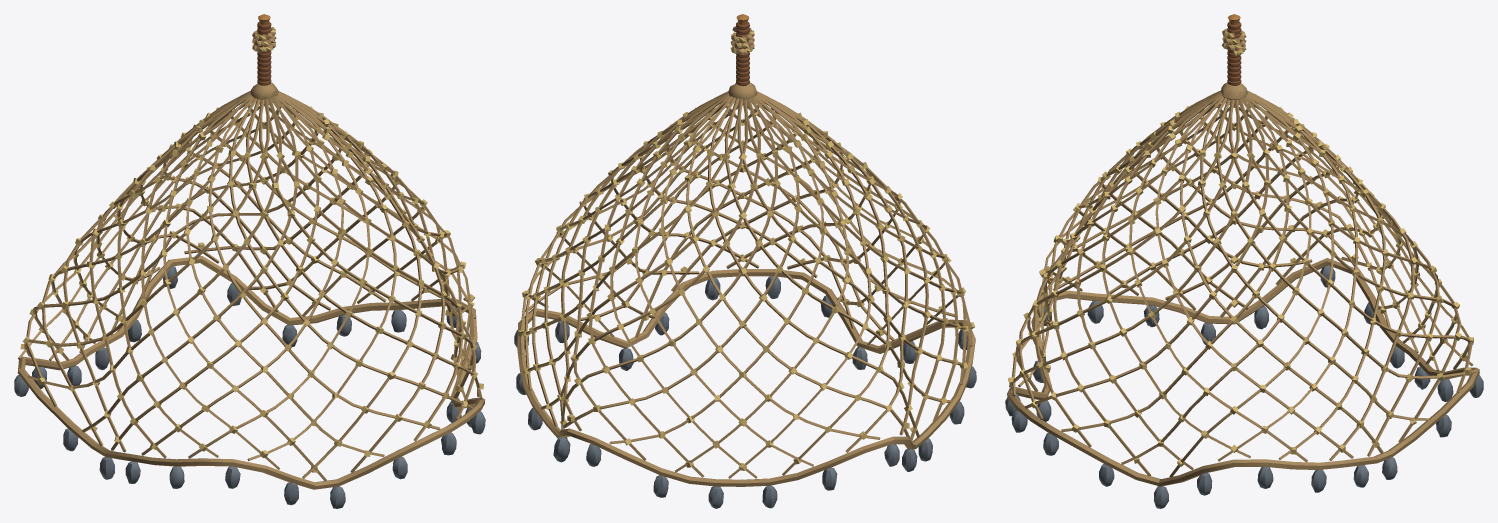
Rendered from tool_throwingnet.fbx.
3 views of the same model, side by side, from view 1: azimuth 30°, elevation 25°; view 2: azimuth 150°, elevation 25°; view 3: azimuth 270°, elevation 25° (orthographic).
Parts seen in each view (by area): view 1: Tool_ThrowingNet_Mesh, Tool_ThrowingNet_Hem, Tool_ThrowingNet_Knots, Tool_ThrowingNet_Handle; view 2: Tool_ThrowingNet_Mesh, Tool_ThrowingNet_Hem, Tool_ThrowingNet_Knots, Tool_ThrowingNet_Handle; view 3: Tool_ThrowingNet_Mesh, Tool_ThrowingNet_Hem, Tool_ThrowingNet_Knots, Tool_ThrowingNet_Handle.
Part boxes in pixels (x1=…): Tool_ThrowingNet_Mesh: x1=18, y1=91, x2=482, y2=481; Tool_ThrowingNet_Hem: x1=14, y1=256, x2=485, y2=508; Tool_ThrowingNet_Knots: x1=20, y1=103, x2=483, y2=472; Tool_ThrowingNet_Handle: x1=250, y1=14, x2=278, y2=105; Tool_ThrowingNet_Mesh: x1=519, y1=91, x2=972, y2=478; Tool_ThrowingNet_Hem: x1=514, y1=269, x2=976, y2=508; Tool_ThrowingNet_Knots: x1=517, y1=103, x2=975, y2=470; Tool_ThrowingNet_Handle: x1=728, y1=14, x2=757, y2=105; Tool_ThrowingNet_Mesh: x1=1009, y1=90, x2=1476, y2=477; Tool_ThrowingNet_Hem: x1=1005, y1=258, x2=1483, y2=508; Tool_ThrowingNet_Knots: x1=1008, y1=103, x2=1473, y2=466; Tool_ThrowingNet_Handle: x1=1220, y1=14, x2=1247, y2=105.
Bounding box in the file's own units: 99.59 × 96.54 × 99.61.
